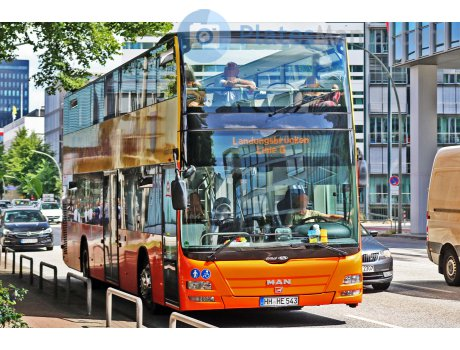License Plates: (264, 296, 296, 301)
